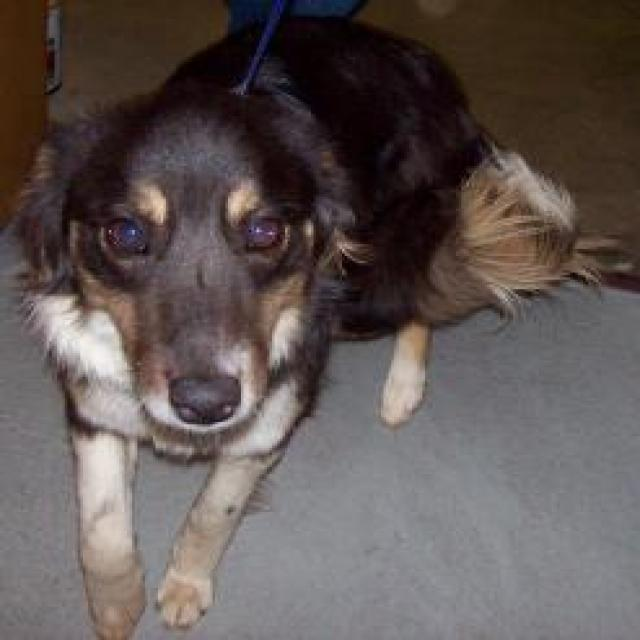Dogs: (0, 10, 622, 638)
